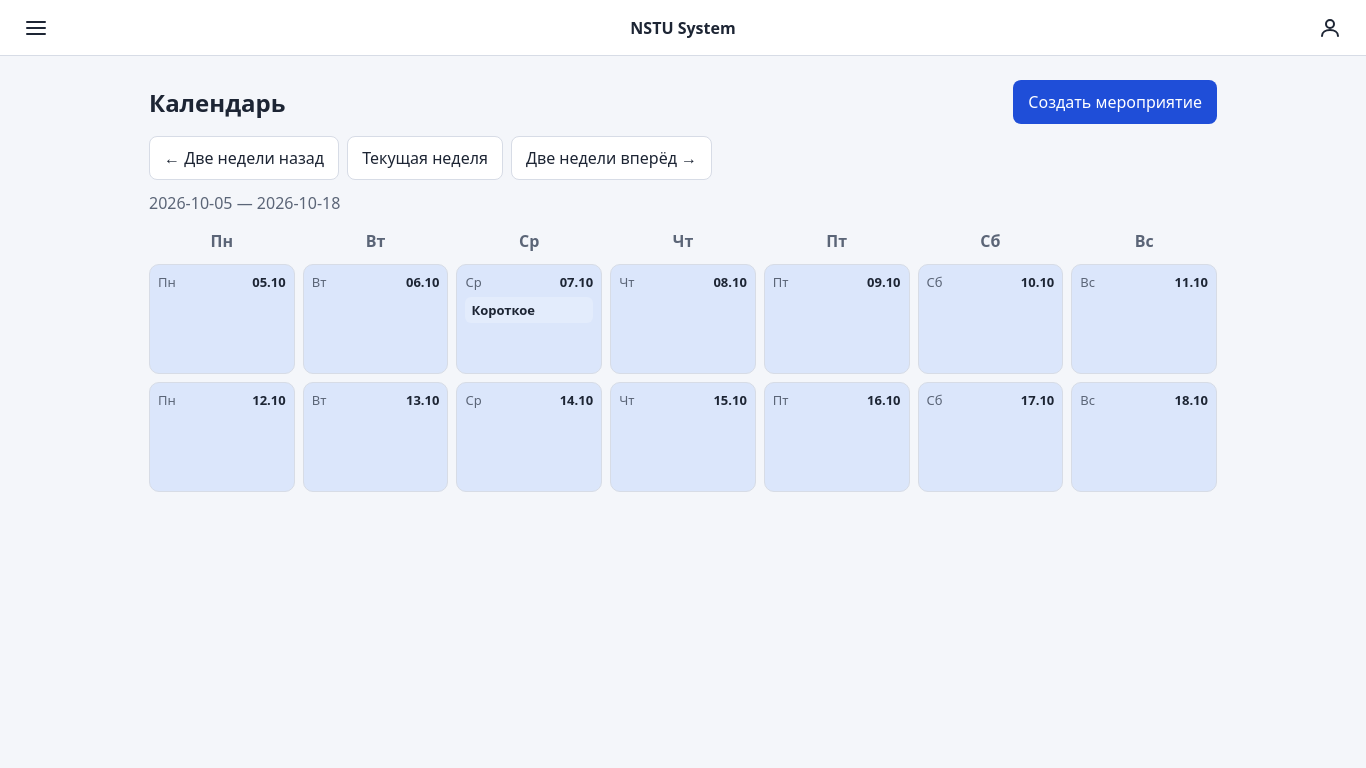
Test case: карточка мероприятия: длинное описание › короткое описание не получает кнопку раскрытия
The image size is (1366, 768).
Step 1. Click the button "Короткое" → (529, 310), box [465,297,593,323]
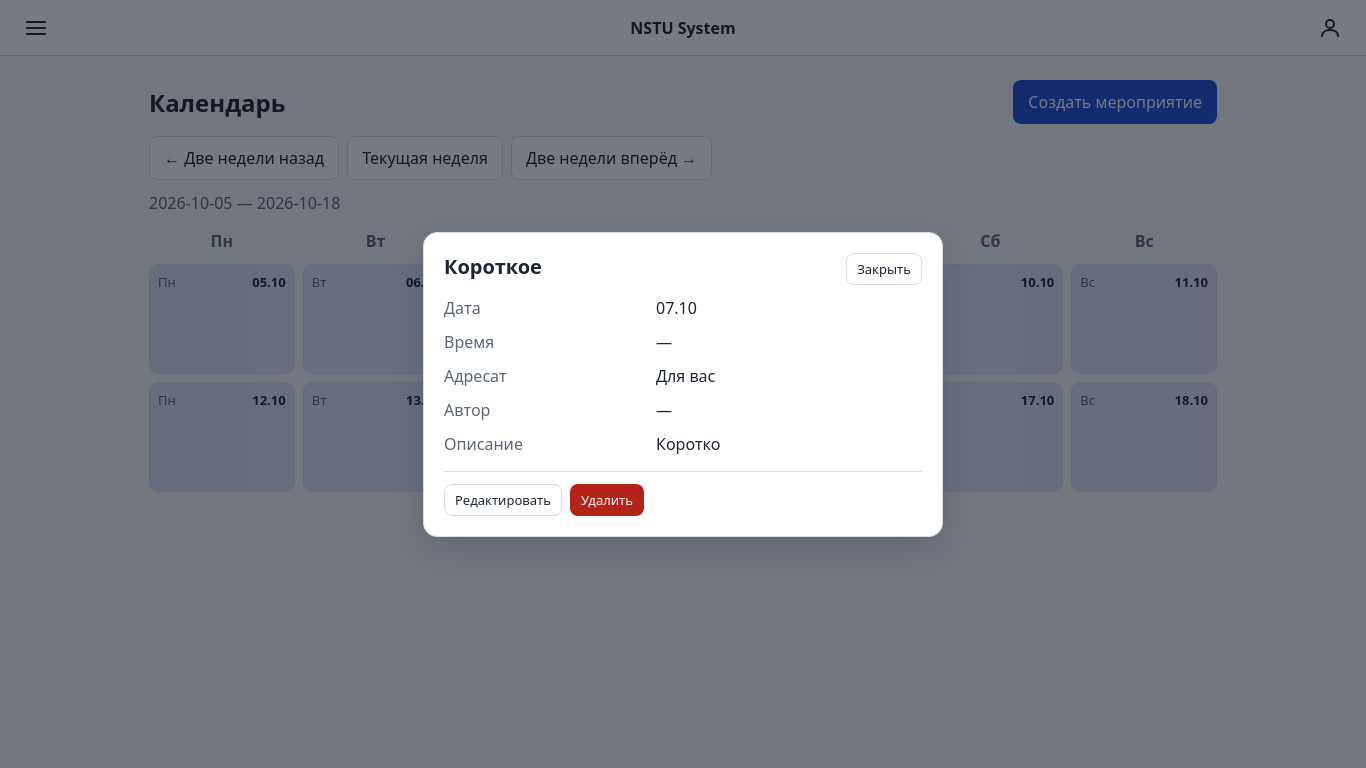
Expected: the text with test id "calendar-entry-description" reads "Коротко", [656,432,720,454]
